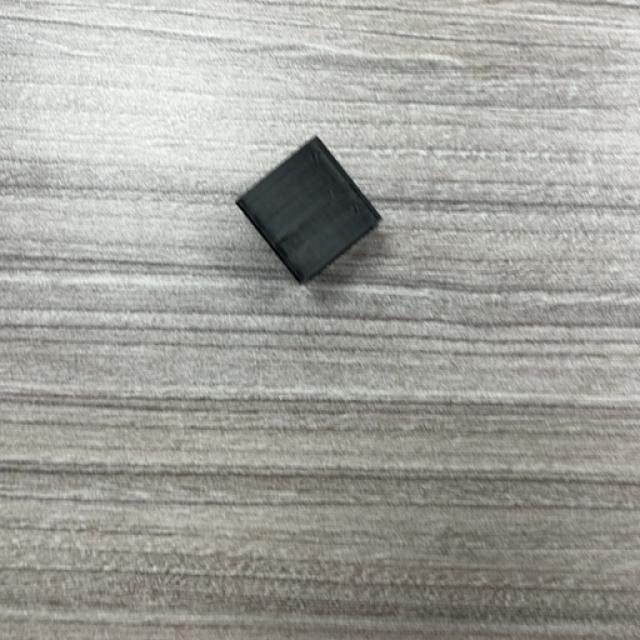Negro: (235, 136, 382, 285)
